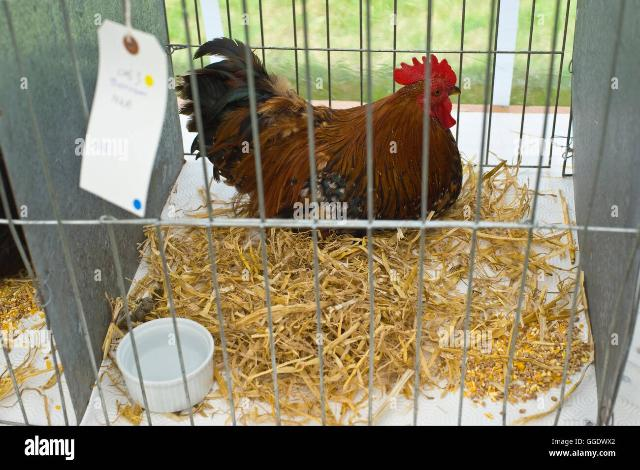Chicken: (180, 38, 462, 230)
